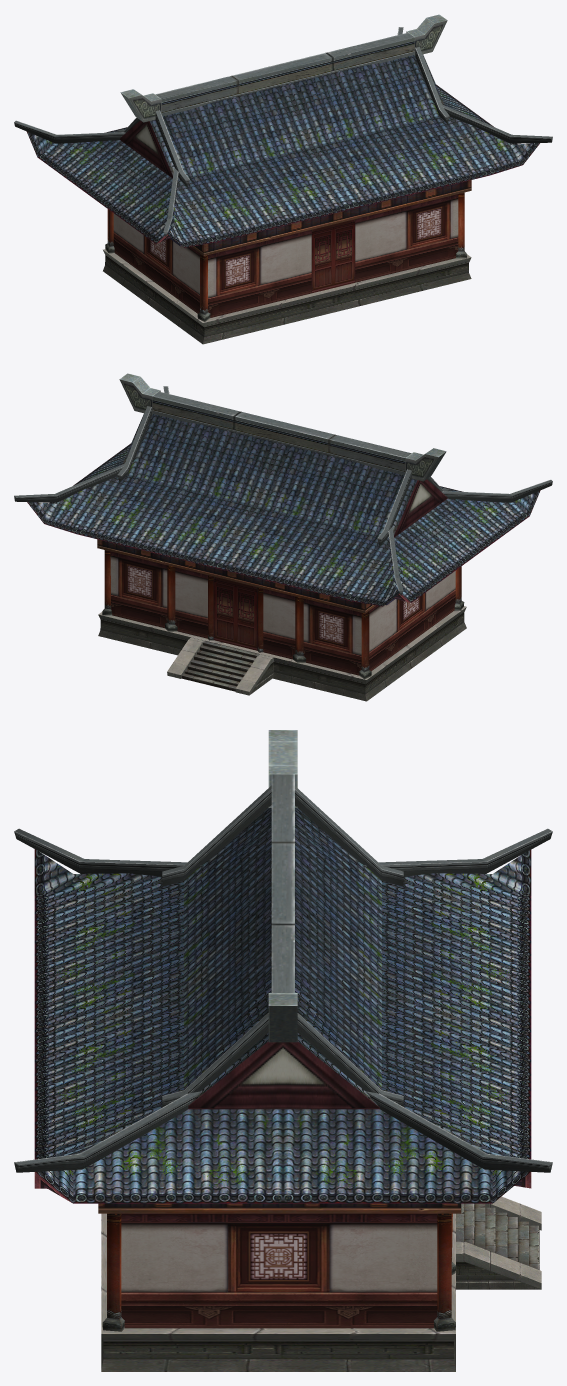
The model's file is Maincity06_Building_mj07_LOD1.FBX.
3 renders of one model, top to bottom at view 1: azimuth 30°, elevation 25°; view 2: azimuth 150°, elevation 25°; view 3: azimuth 270°, elevation 25°, orthographic. The views are drawn at different scales.
Visible parts, largest first — view 1: Maincity06_Building_mj07_LOD1; view 2: Maincity06_Building_mj07_LOD1; view 3: Maincity06_Building_mj07_LOD1.
Boxes of the visible parts, box(x1,y1,x2,y2) form: Maincity06_Building_mj07_LOD1: box(14, 14, 552, 344); Maincity06_Building_mj07_LOD1: box(14, 373, 552, 701); Maincity06_Building_mj07_LOD1: box(14, 730, 552, 1371).
Bounding box in the file's own units: 1482 × 793 × 1003.
